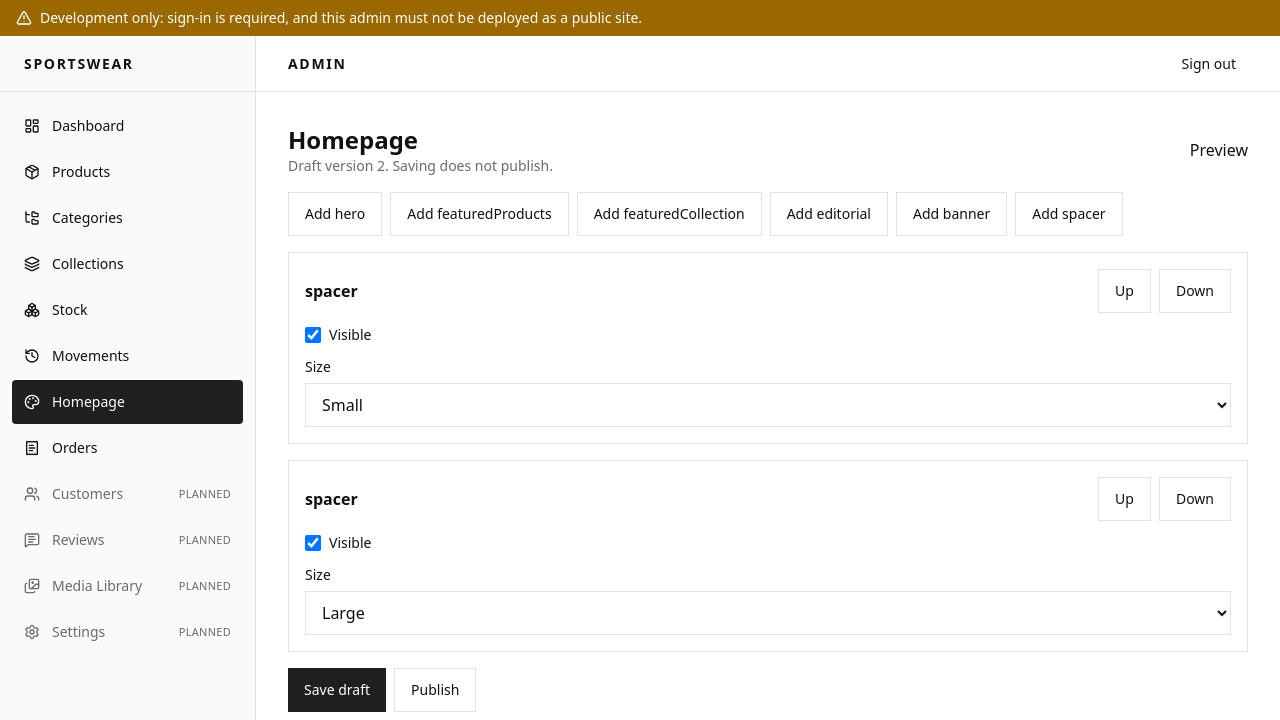
it: catalogue administration › reorders homepage blocks and confirms publication
This screenshot has width=1280, height=720.
Click the button with aria-label "Move block 2 up" at [1125, 499], box [1098,477,1151,521]
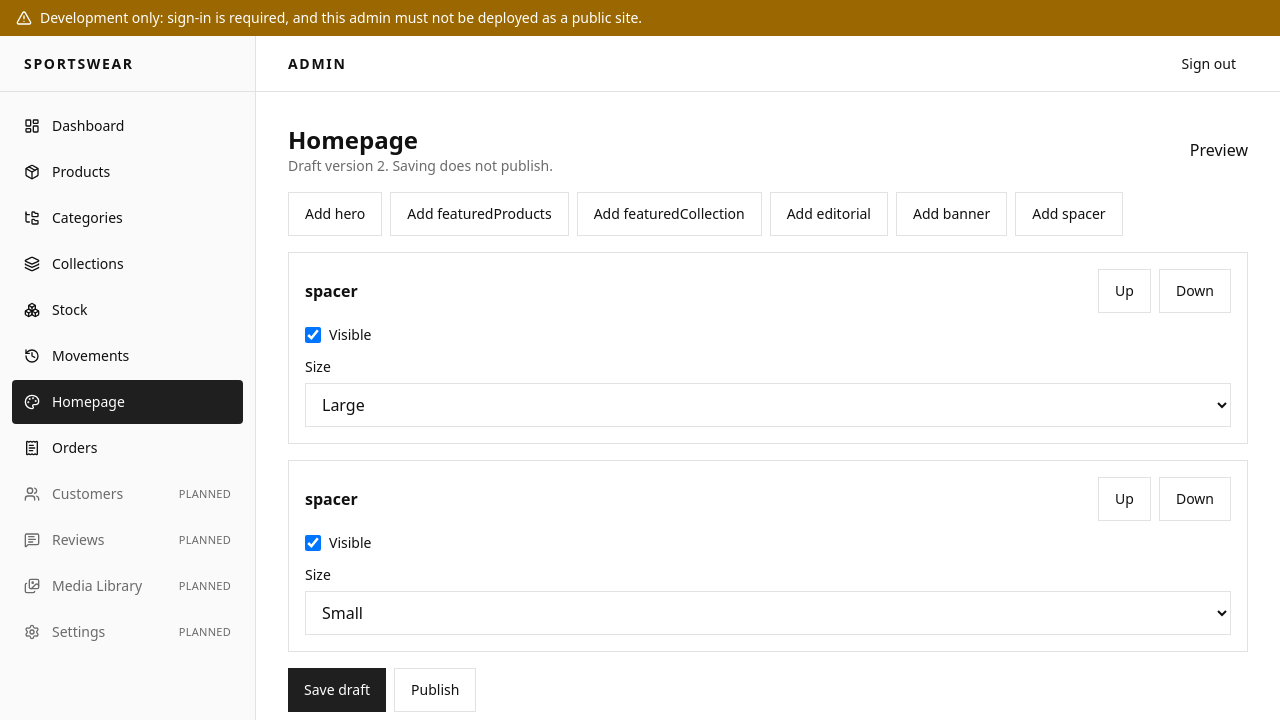
Click the button "Publish" at [435, 690], box [394,668,476,712]
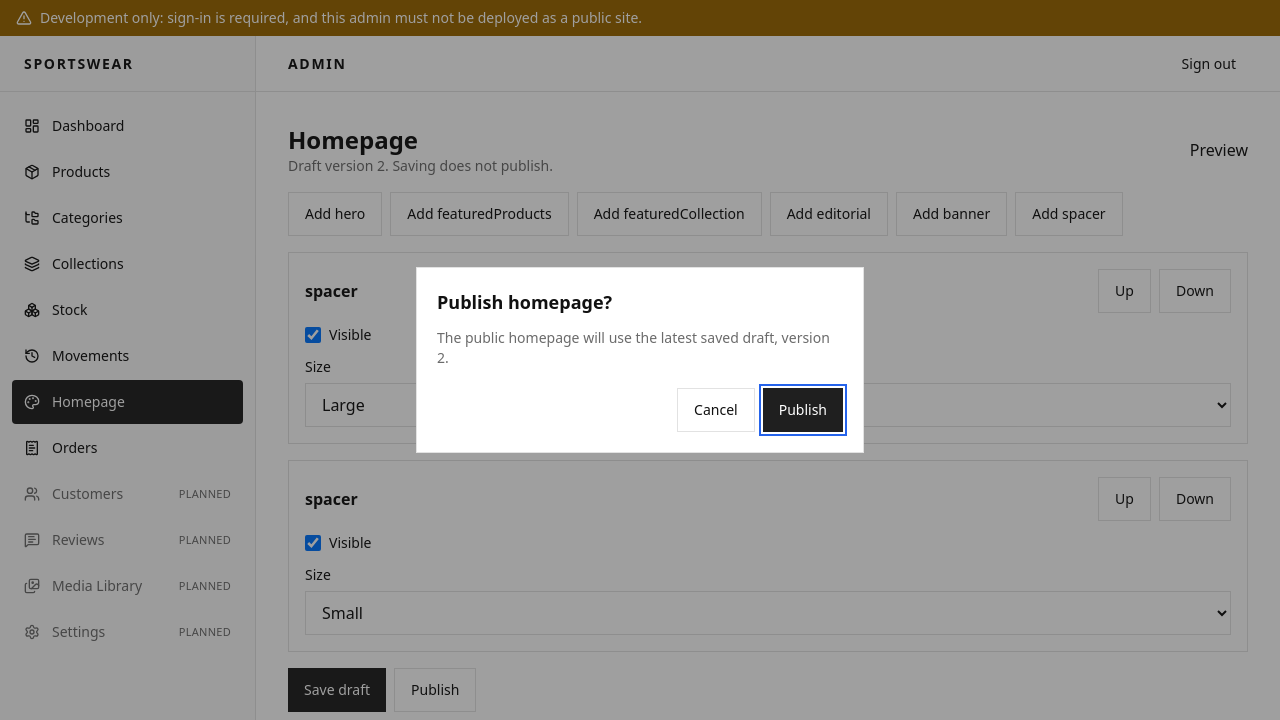
Result: the dialog "Publish homepage?" is shown at [416,267,864,453]
